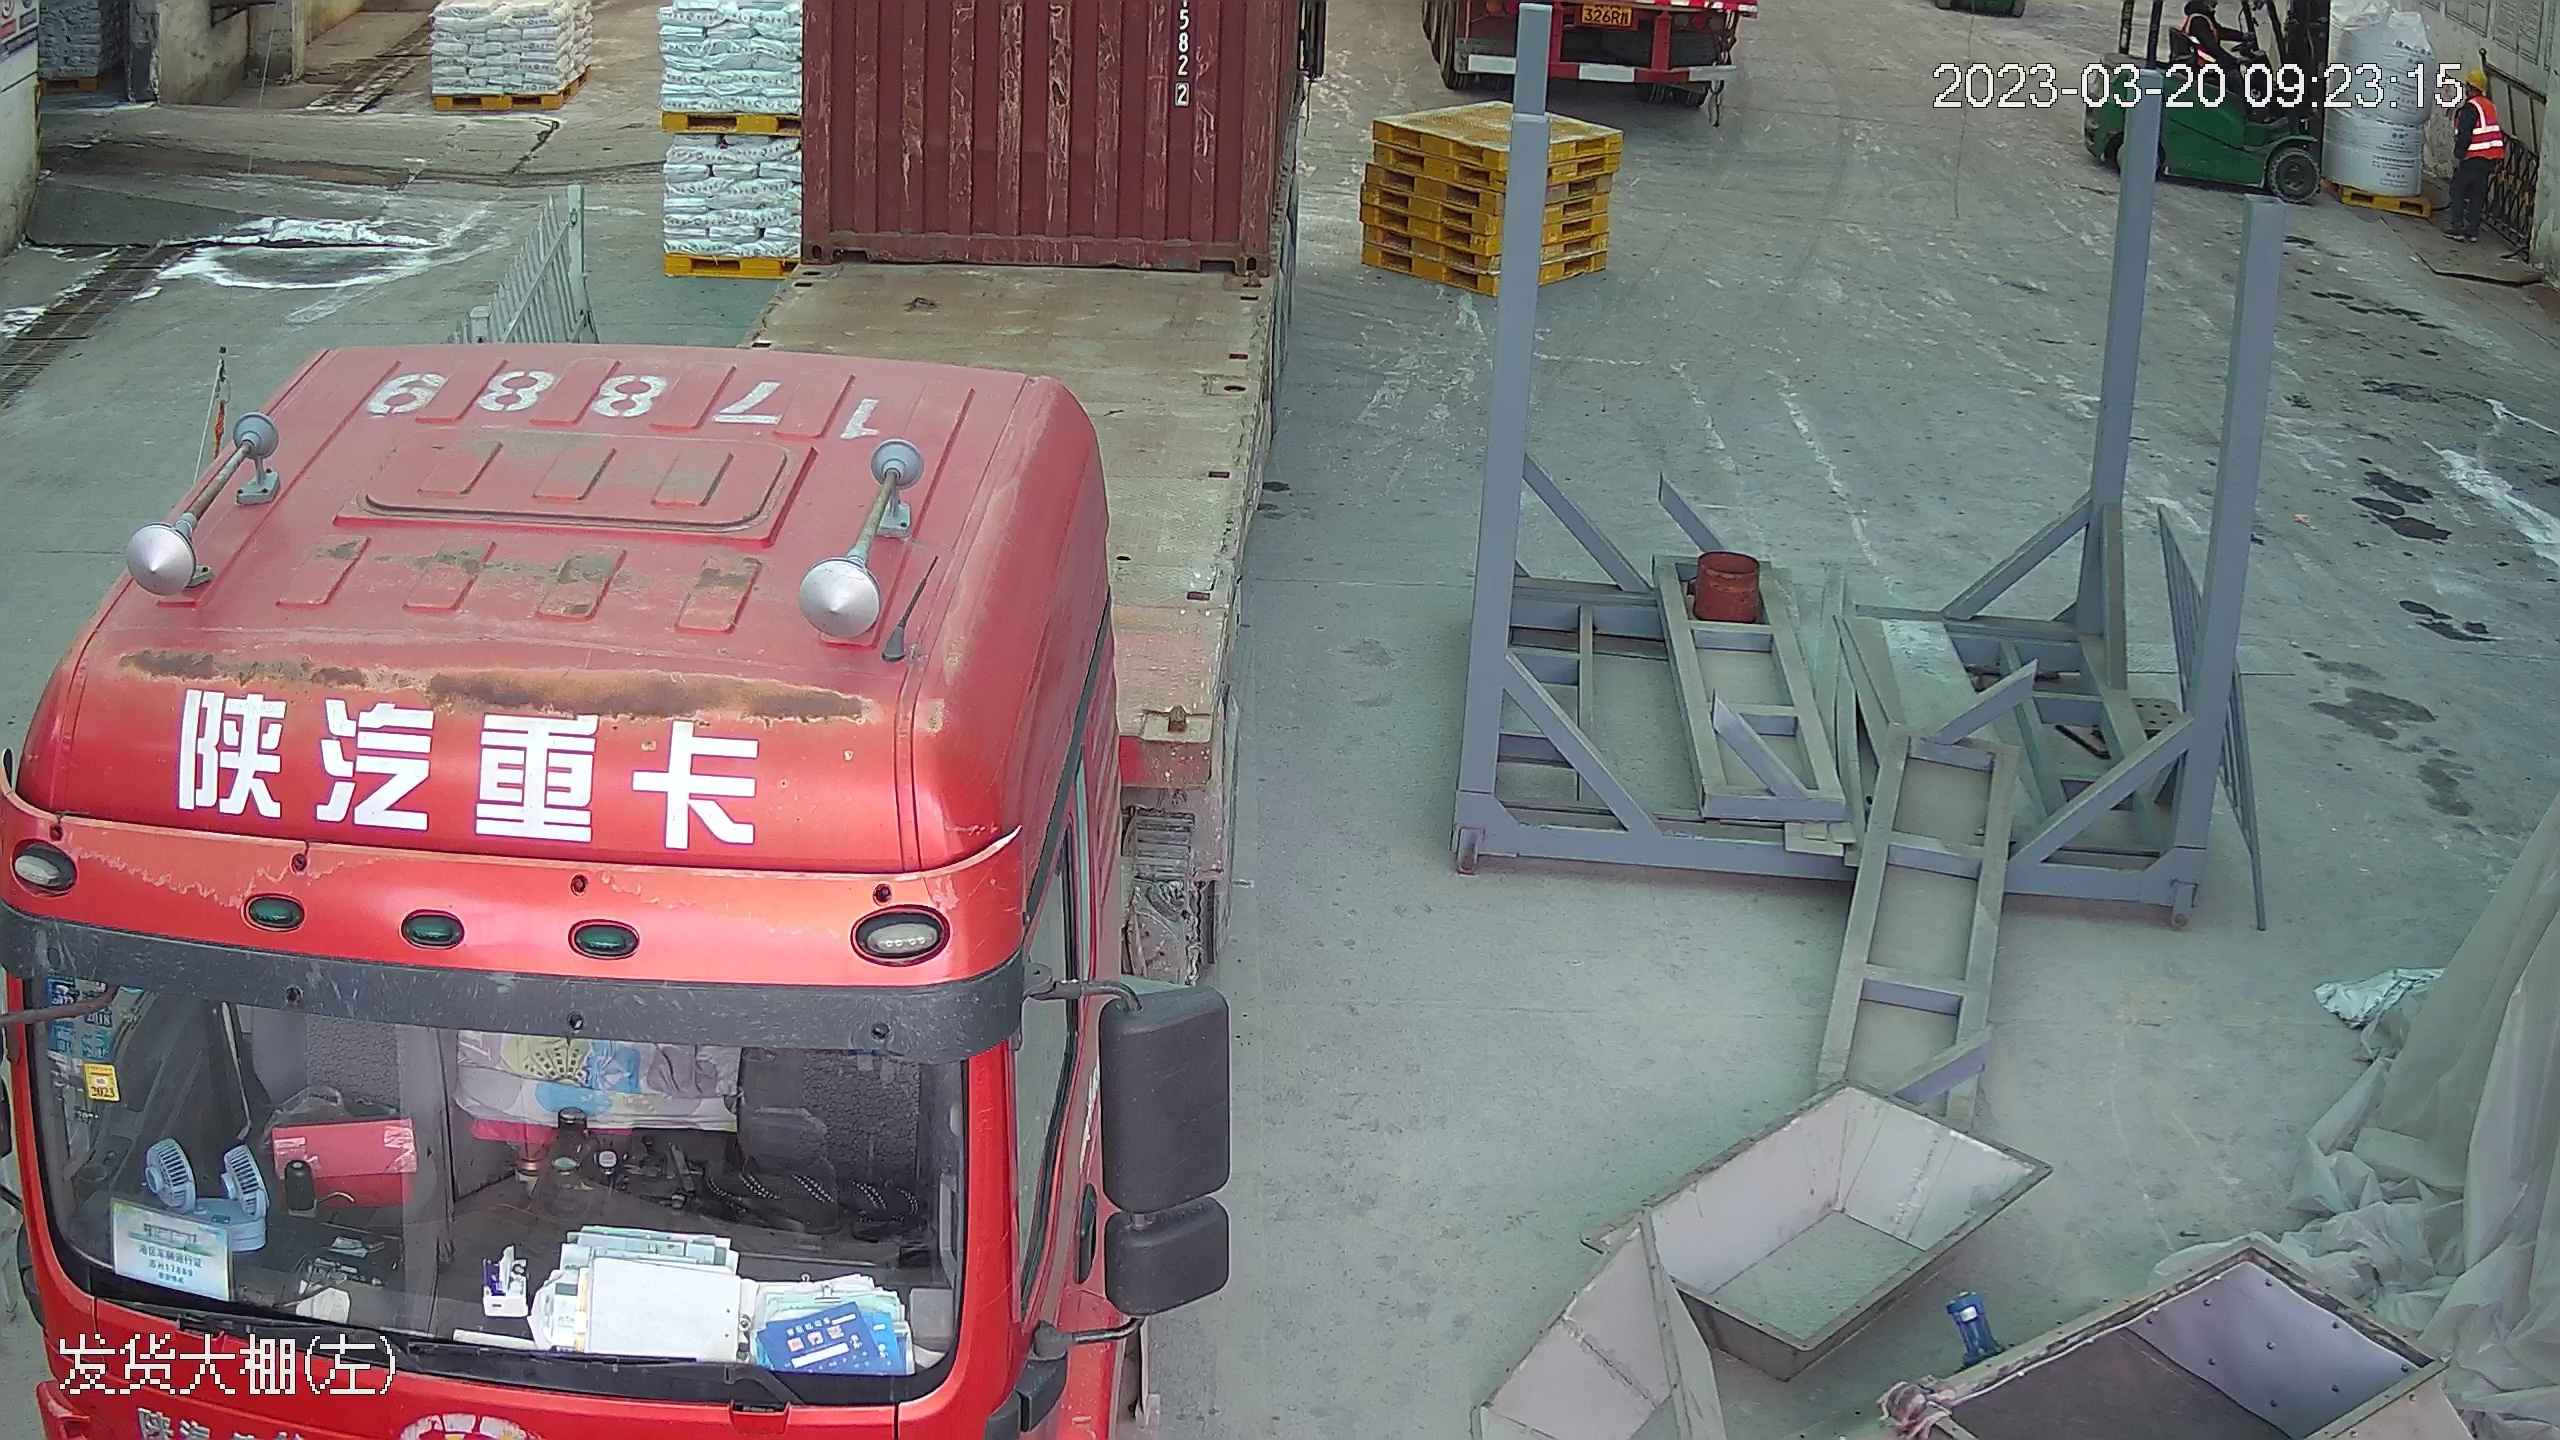head: (2449, 63, 2502, 123)
helmet: (2460, 63, 2490, 86)
people: (2444, 58, 2507, 239)
truck: (7, 0, 1294, 1440), (1405, 0, 1759, 118)
